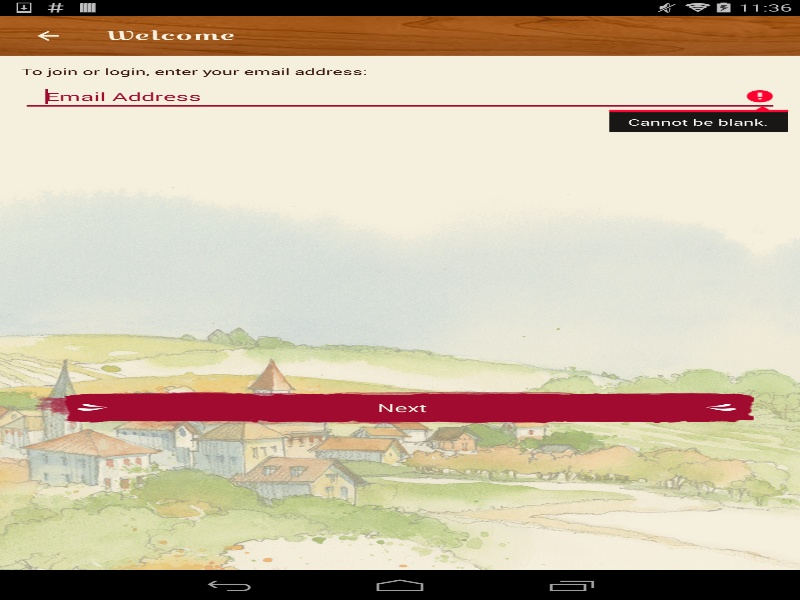Button: (34, 391, 765, 424), (10, 15, 85, 55)
Input: (21, 82, 778, 110)
